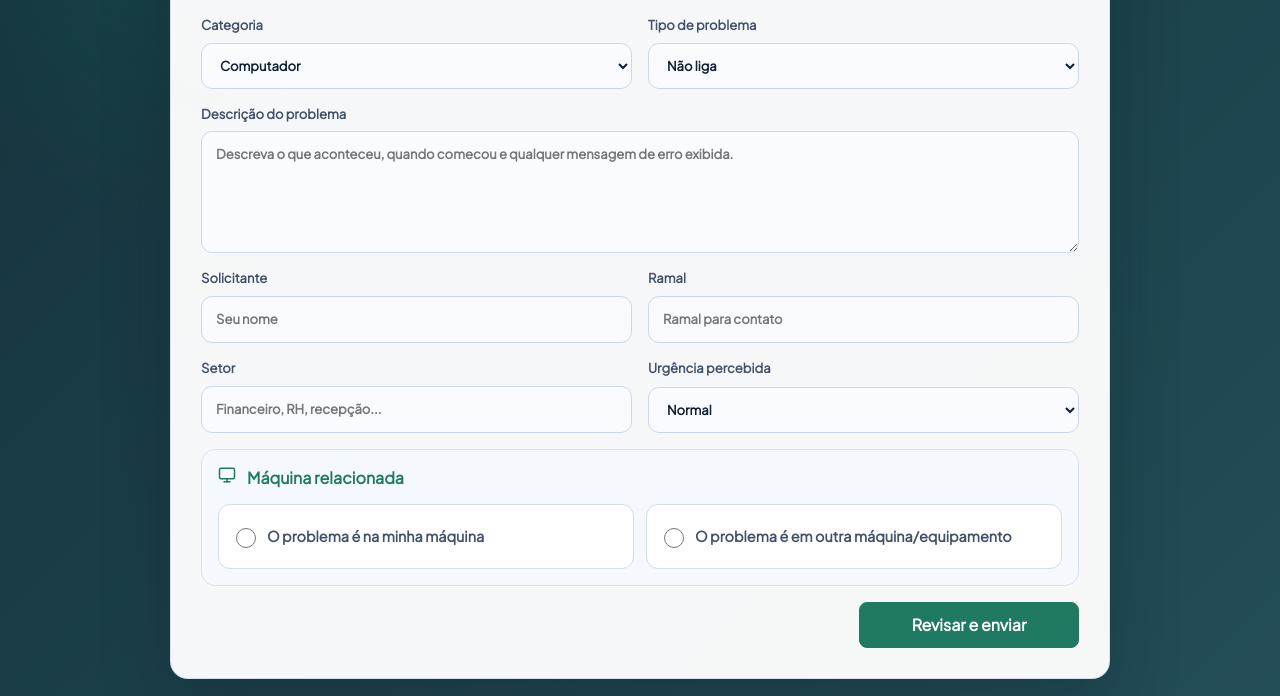
Test: PublicSupportRequest - contexto da maquina › aceita hostname e environment como parametros alternativos
(page scrolled)
Click the radio button labelled "O problema é em outra máquina/equipamento".
click(674, 538)  # box [664,517,684,559]
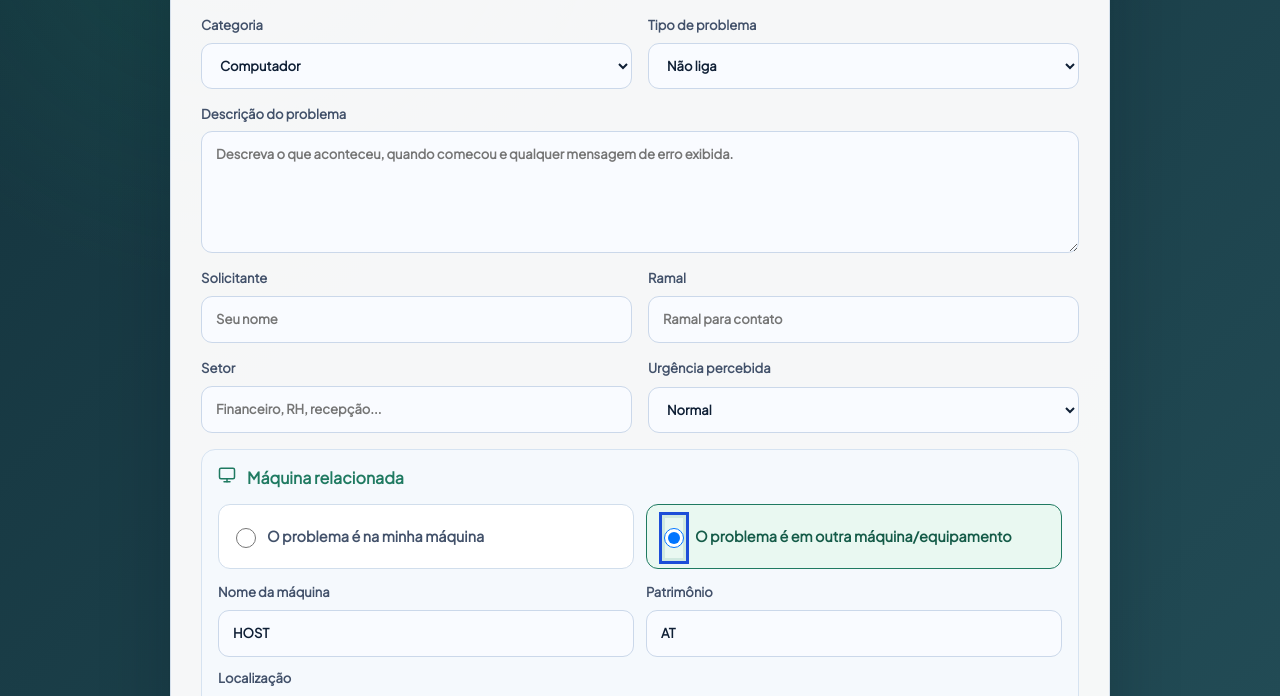
Now the field labelled "Nome da máquina" holds "HOST", box [218,610,634,657]
Now the field labelled "Patrimônio" holds "AT", box [646,610,1062,657]
